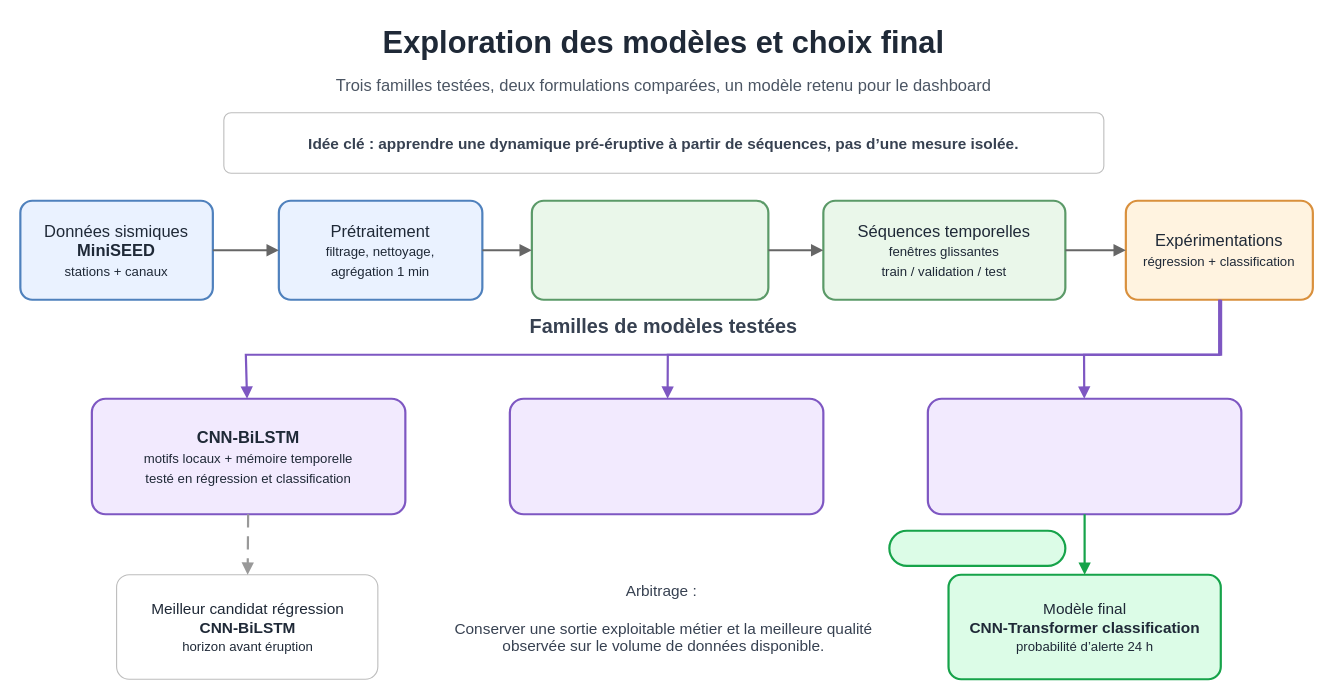
This 1332x699 diagram has some shape labels left out. The box of each missing label's shape, as (x1, y1, x2, y2) in pixels:
CNN-Transformer motifs locaux + attention testé en régression et classification: (926, 397, 1242, 515)
Features sismiques énergie, Frequency Index, entropie, kurtosis: (530, 199, 769, 300)
MODÈLE RETENU: (888, 529, 1066, 566)
Transformer attention temporelle testé en régression et classification: (508, 397, 824, 515)
